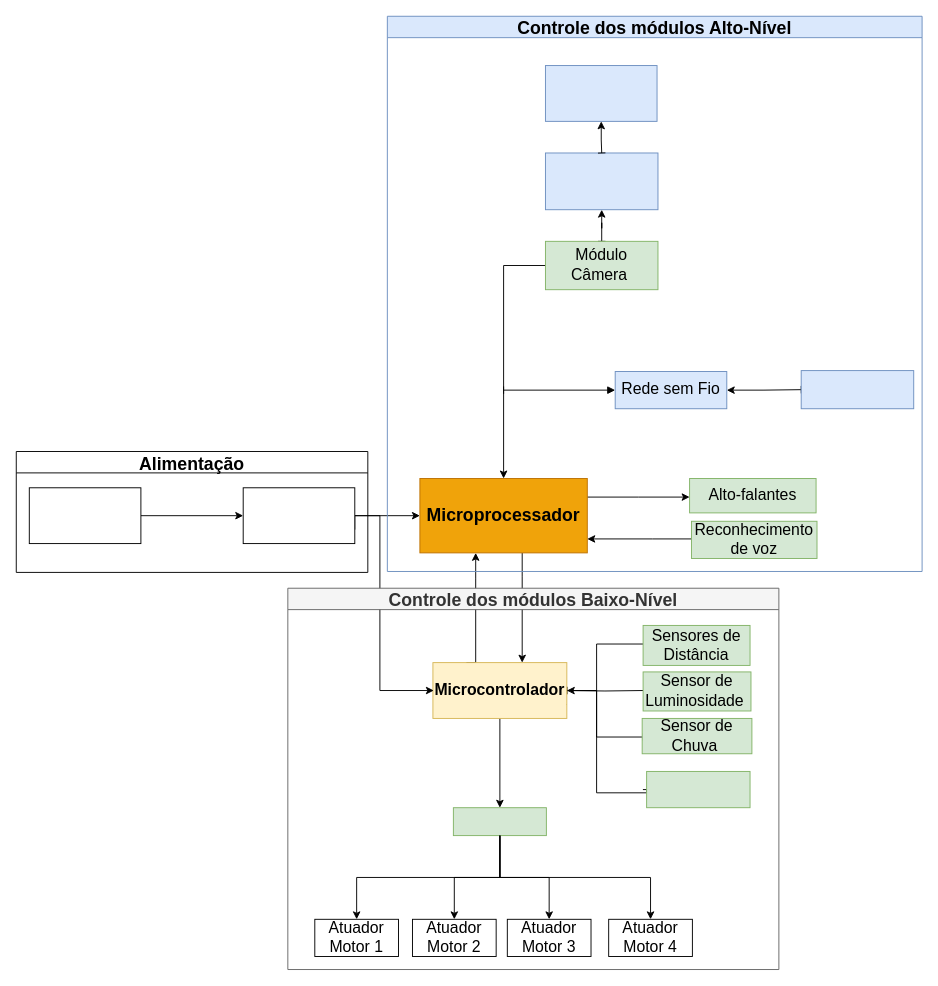
The diagram is 938 pixels wide and 986 high, and some of its shapes have lost their labels. The shapes that lost their labels are listed below. From the top down, each one's centre as x and y in pixels, then its label:
the point at 601,93: Processamento de imagem
the point at 601,181: Captura de imagem
the point at 857,389: Conexão com Smartphone
the point at 84,515: Carregador Sem Fio
the point at 298,515: Bateria
the point at 698,789: Sensor de Posição
the point at 499,821: Driver
